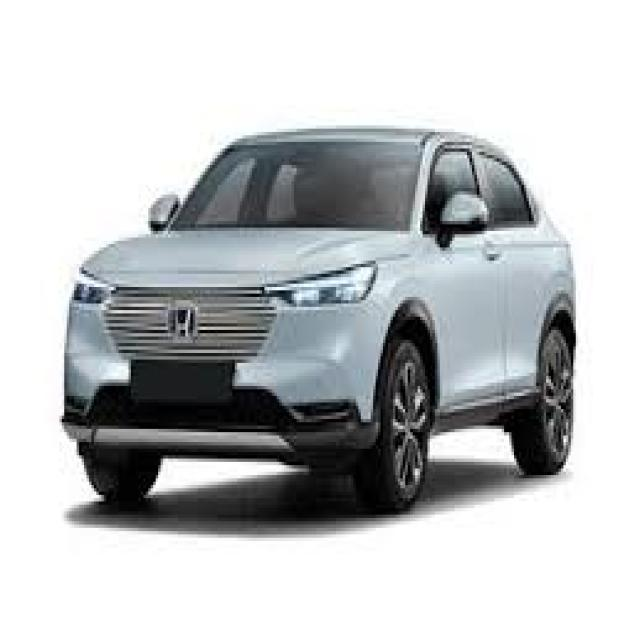Car: (41, 116, 599, 508)
